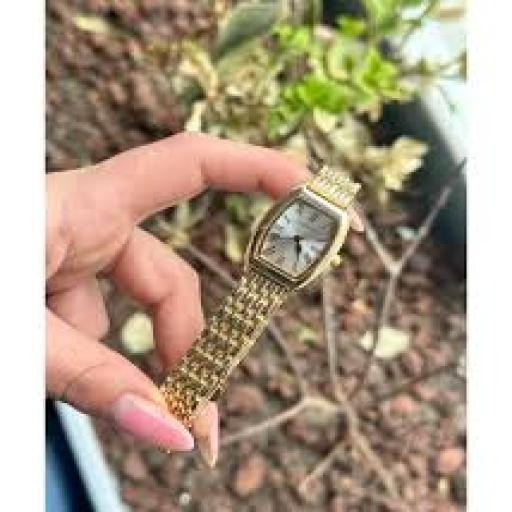KolSaati: (136, 167, 377, 446)
